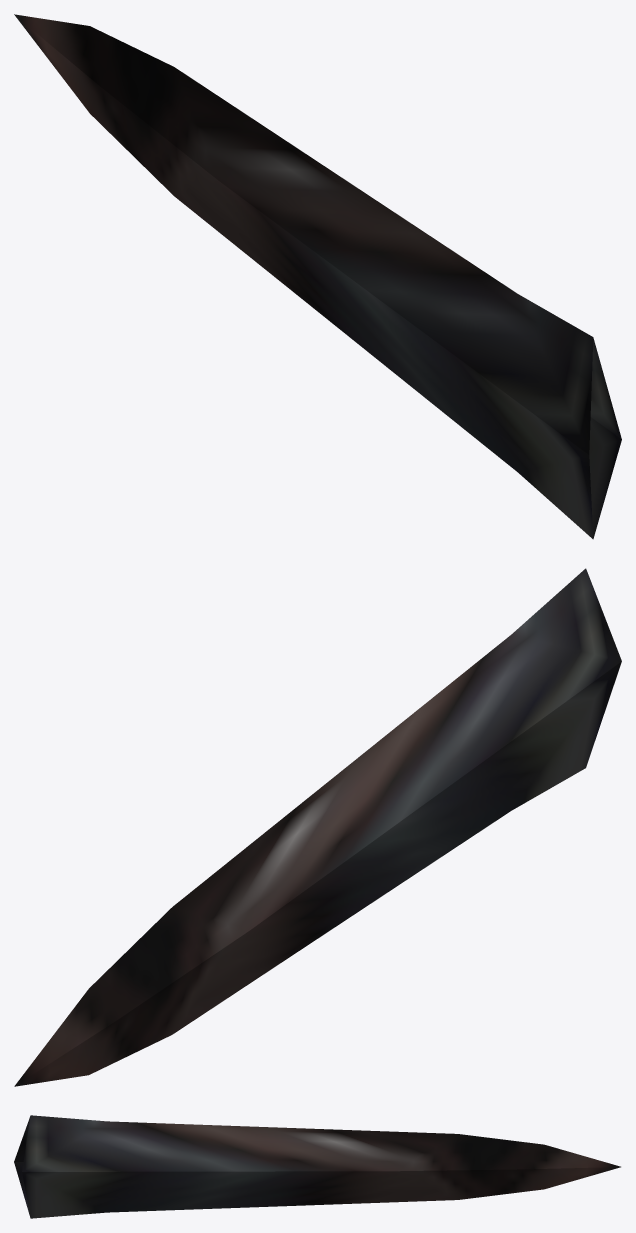
File: jian_1110_01.FBX
The picture shows the model from 3 angles, top to bottom: view 1: azimuth 30°, elevation 25°; view 2: azimuth 150°, elevation 25°; view 3: azimuth 270°, elevation 25°; orthographic projection. The views are drawn at different scales.
Parts seen in each view (by area): view 1: jian_1110_mx01; view 2: jian_1110_mx01; view 3: jian_1110_mx01.
Part boxes in pixels (bbox=[...]): jian_1110_mx01: bbox=[14, 14, 621, 539]; jian_1110_mx01: bbox=[14, 568, 621, 1086]; jian_1110_mx01: bbox=[14, 1115, 620, 1218].
Bounding box in the file's own units: 3.19 × 81.15 × 15.22.
